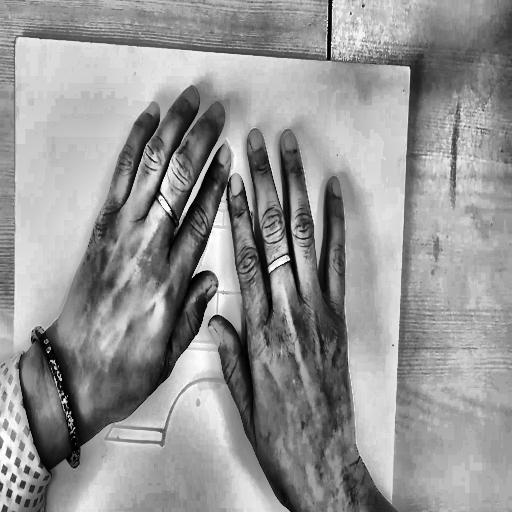eiffel-tower: (99, 126, 358, 467)
top_left: (13, 33, 19, 44)
top_right: (408, 64, 412, 71)
